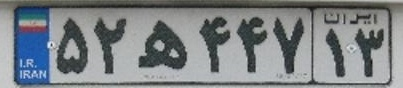character: (131, 11, 190, 79), (50, 13, 92, 77), (91, 11, 130, 79), (233, 10, 271, 78), (270, 10, 308, 78), (195, 10, 233, 76), (353, 25, 387, 82), (321, 25, 350, 81)
